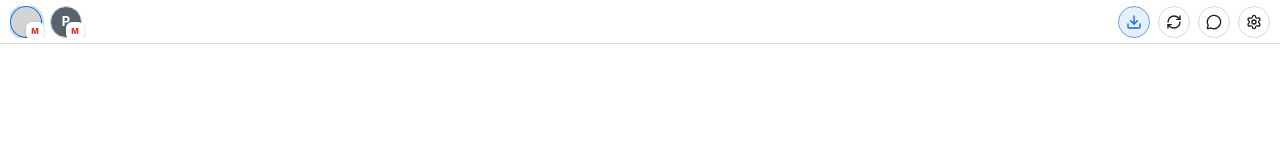
Test case: App › surfaces switch profile failures without an unhandled rejection
This screenshot has width=1280, height=160.
Click the button named "Switch to personal.user@example.com Gmail". click: (66,22)
box: x1=50 y1=6 x2=82 y2=38
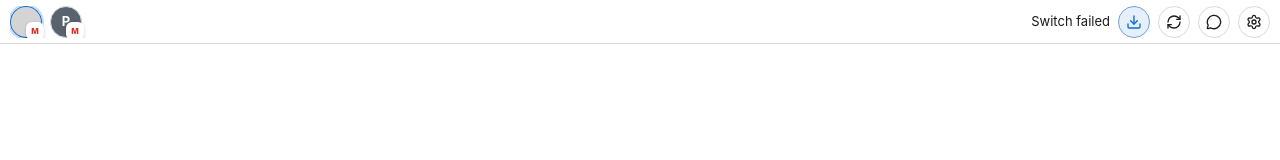
Expected: the message reads "Switch failed", x1=1031 y1=13 x2=1110 y2=29
